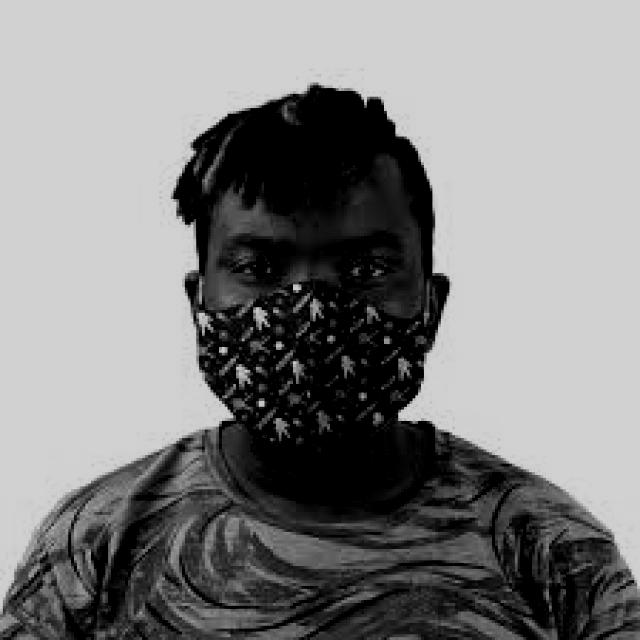fake: (192, 278, 436, 465)
real: (206, 154, 424, 464)
